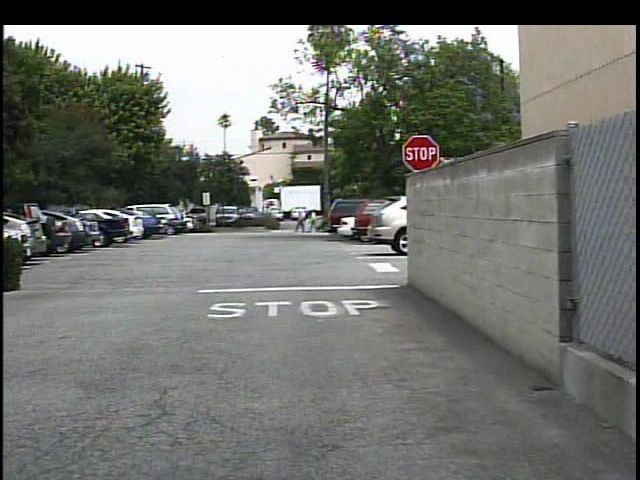person: (288, 210, 302, 236), (302, 209, 315, 235)
